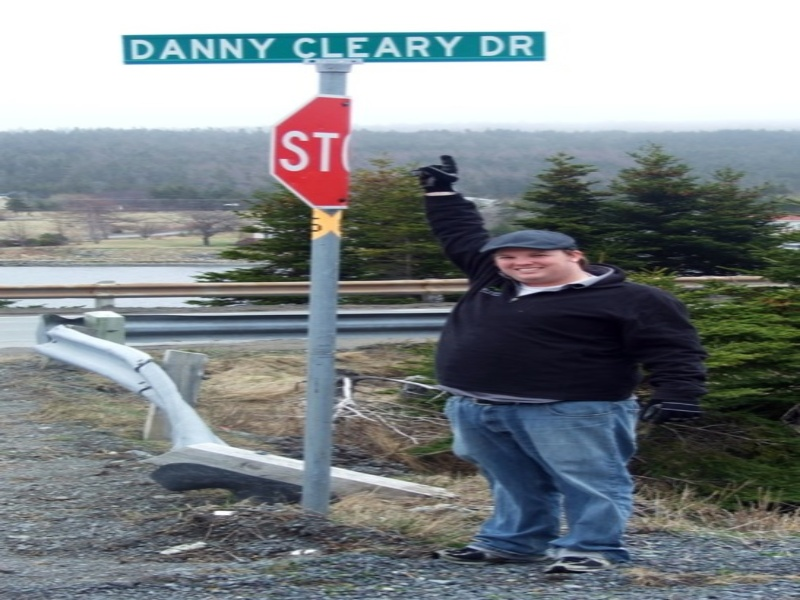stop: (268, 90, 364, 214)
